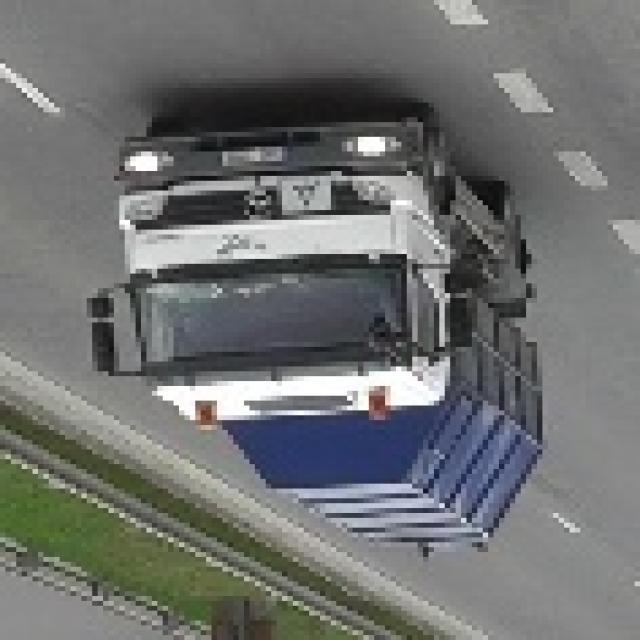Truck: (81, 98, 542, 557)
